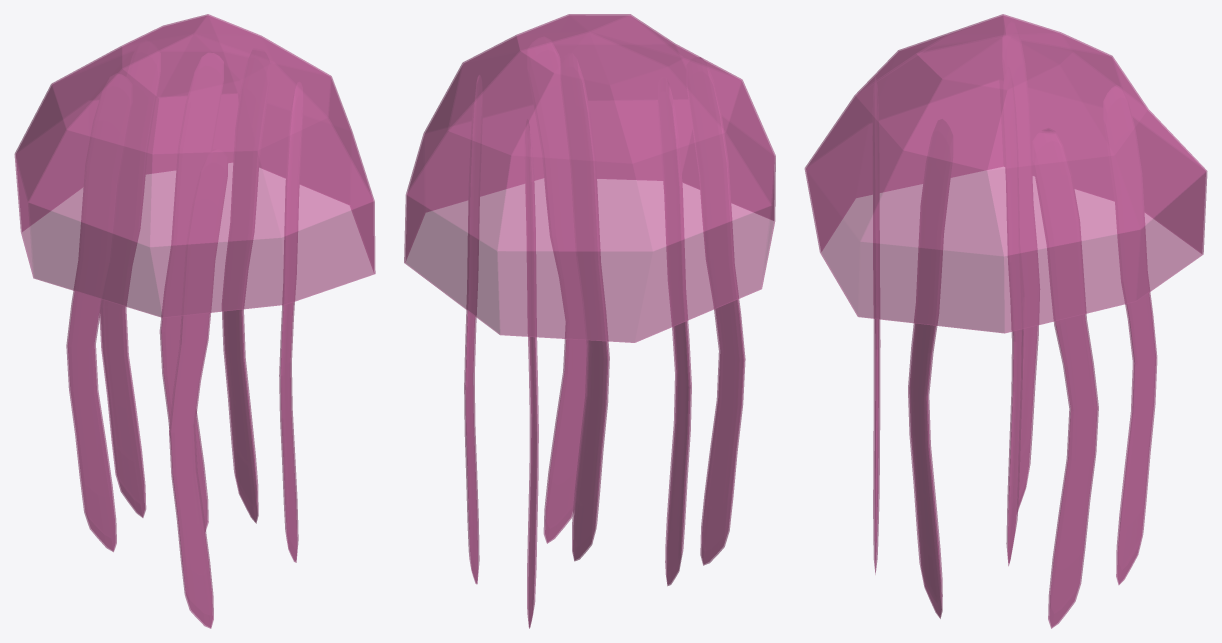
File: Jellyfish Pink.glb
3 renders of one model, left to right at view 1: azimuth 30°, elevation 25°; view 2: azimuth 150°, elevation 25°; view 3: azimuth 270°, elevation 25°, orthographic. The views are drawn at different scales.
Parts seen in each view (by area): view 1: Plane; view 2: Plane; view 3: Plane.
Part boxes in pixels (<box>): Plane: <box>14,14,375,628</box>; Plane: <box>404,14,775,628</box>; Plane: <box>804,14,1207,628</box>.
Bounding box in the file's own units: 2.01 × 3.17 × 2.05.
